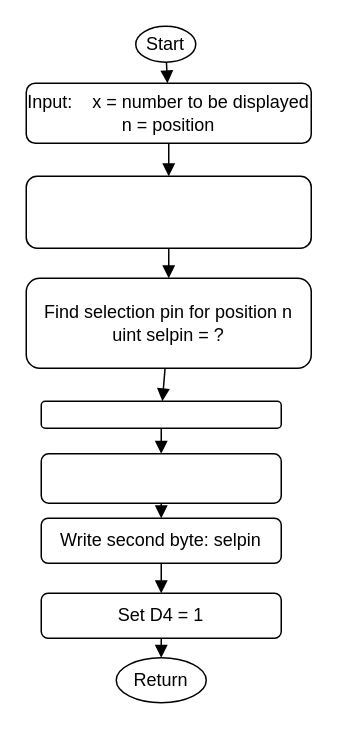
Some shapes in this 338 by 729 pixel diagram are drawn without their labels. The centre of each missing label's shape, as x and y in pixels:
"Check LED pattern table dts[] uint LEDx = dts[x]" goes at [168,211].
"Set D4 = 0" goes at [160,414].
"Write first byte: LEDx" goes at [160,477].
